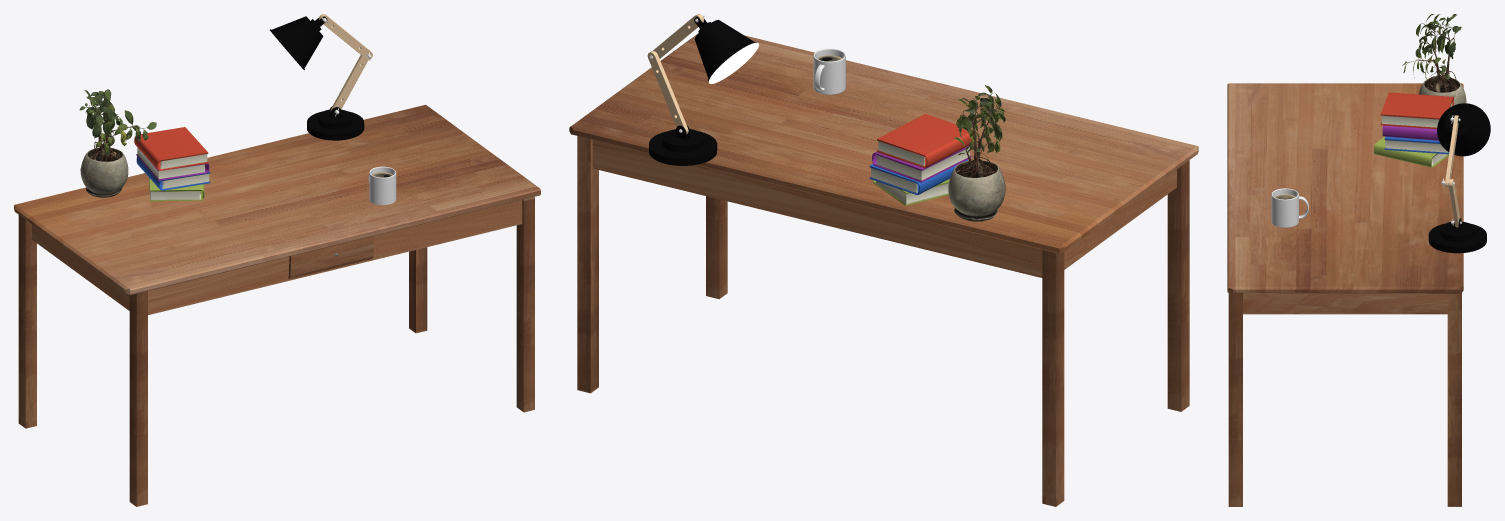
The model's file is room.glb.
3 renders of one model, left to right at view 1: azimuth 30°, elevation 25°; view 2: azimuth 150°, elevation 25°; view 3: azimuth 270°, elevation 25°, orthographic. The views are drawn at different scales.
Visible parts, largest first — view 1: Cube.007_0, plant, LampCone_0, pasted__pCube1group2_blinn1_0, pCube1_lambert2_0, Stem2_0, Mug1_Mug_0; view 2: Cube.007_0, plant, LampCone_0, pasted__pCube1group2_blinn1_0, pCube1_lambert2_0, Stem2_0, Mug1_Mug_0, LampCone_1, pasted__pCube1group_blinn3_0; view 3: Cube.007_0, LampCone_0, plant, pasted__pCube1group2_blinn1_0, pCube1_lambert2_0, Mug1_Mug_0, pCube1_blinn4_0, Stem2_0, pasted__pCube1group1_blinn2_0, pasted__pCube1group_blinn3_0.
Boxes of the visible parts, x1,y1,x2,y2 form: Cube.007_0: (14,104,540,506); plant: (79,89,156,197); LampCone_0: (270,16,364,140); pasted__pCube1group2_blinn1_0: (134,127,208,170); pCube1_lambert2_0: (137,147,209,199); Stem2_0: (319,14,372,110); Mug1_Mug_0: (368,166,396,205); Cube.007_0: (569,34,1198,506); plant: (948,85,1005,221); LampCone_0: (649,17,757,165); pasted__pCube1group2_blinn1_0: (877,114,971,168); pCube1_lambert2_0: (871,141,969,203); Stem2_0: (647,14,703,134); Mug1_Mug_0: (813,48,845,94); LampCone_1: (708,42,758,83); pasted__pCube1group_blinn3_0: (869,160,967,194); Cube.007_0: (1227,83,1463,506); LampCone_0: (1428,103,1490,253); plant: (1402,14,1466,105); pasted__pCube1group2_blinn1_0: (1380,92,1453,129); pCube1_lambert2_0: (1381,102,1452,165); Mug1_Mug_0: (1271,188,1308,227); pCube1_blinn4_0: (1374,136,1448,167); Stem2_0: (1445,115,1459,227); pasted__pCube1group1_blinn2_0: (1382,125,1438,140); pasted__pCube1group_blinn3_0: (1384,136,1448,154).
Size of the model in its own units: 12.49 by 9.69 by 6.77.
16 materials, 6 textured.
